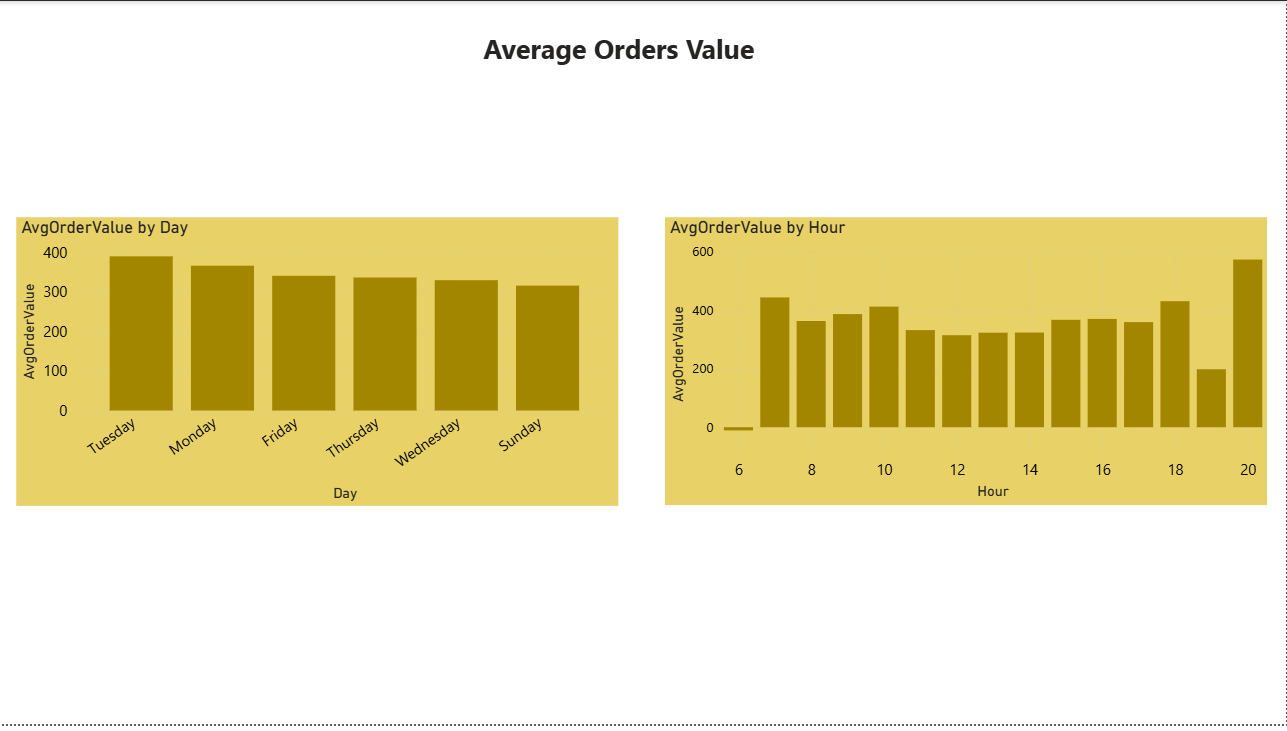

This screenshot's page, from the dashboard's own definition file:
{"tool":"powerbi","page":{"name":"Page 6","canvas":[1280,720],"ordinal":4},"visuals":[{"type":"columnChart","fields":{"Category":["OnlineRetail (2).Day"],"Y":["OnlineRetail (2).AvgOrderValue"]},"box":[16.2,215.2,599.6,287.4],"z":0},{"type":"columnChart","fields":{"Category":["OnlineRetail (2).Hour"],"Y":["OnlineRetail (2).AvgOrderValue"]},"box":[661.8,215.2,599.6,286.1],"z":1000},{"type":"textbox","box":[316,23.6,599.6,72.1],"z":2000}]}

Visuals, with their boxes in screenshot pixels (x1, y1, x2, y2), scaled from the page's 1280x720 canvas onto the 1287x731 screenshot:
columnChart - OnlineRetail (2).Day x OnlineRetail (2).AvgOrderValue: {"left": 16, "top": 218, "right": 619, "bottom": 510}
columnChart - OnlineRetail (2).Hour x OnlineRetail (2).AvgOrderValue: {"left": 665, "top": 218, "right": 1268, "bottom": 509}
textbox: {"left": 318, "top": 24, "right": 921, "bottom": 97}
